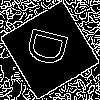D: (25, 25, 78, 71)
